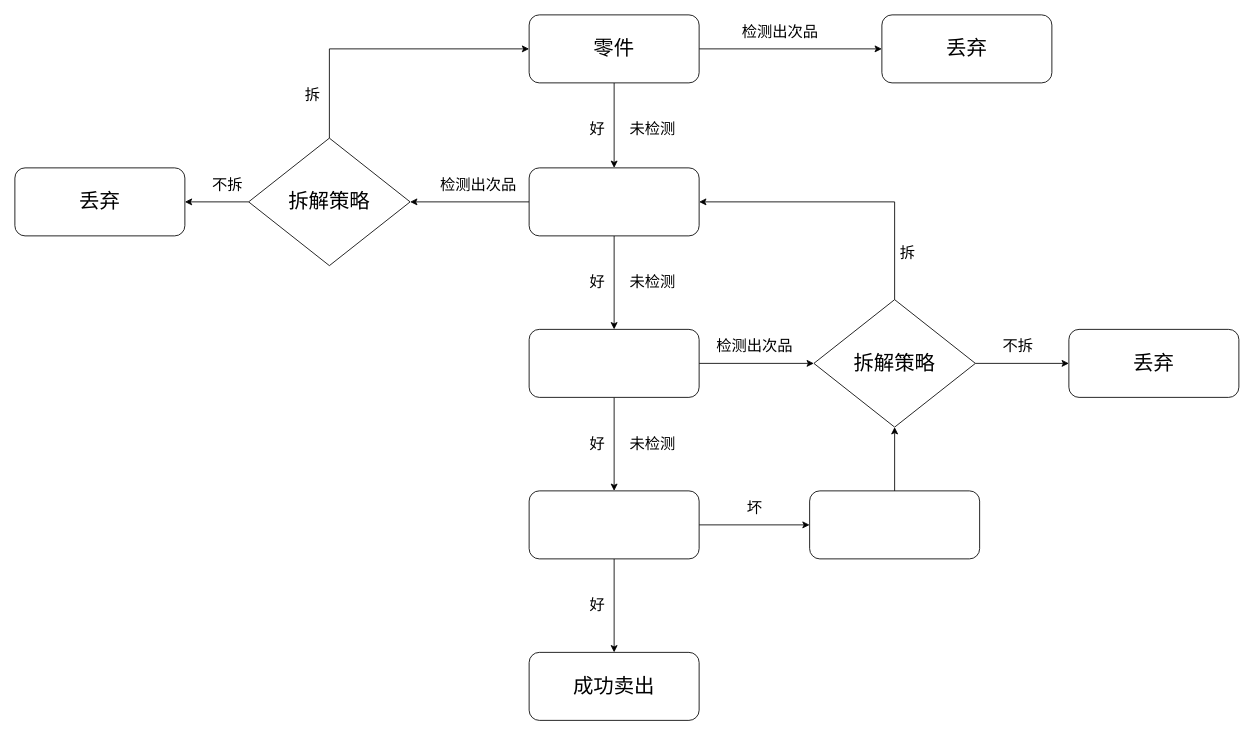
This 1254x735 diagram has some shape labels left out. The shapes that lost their labels are listed below. From the top down, each one's centre as x and y in pixels, then its label:
At point 613,201: "半成品".
At point 613,363: "成品".
At point 613,524: "售卖".
At point 894,524: "调换损失".
